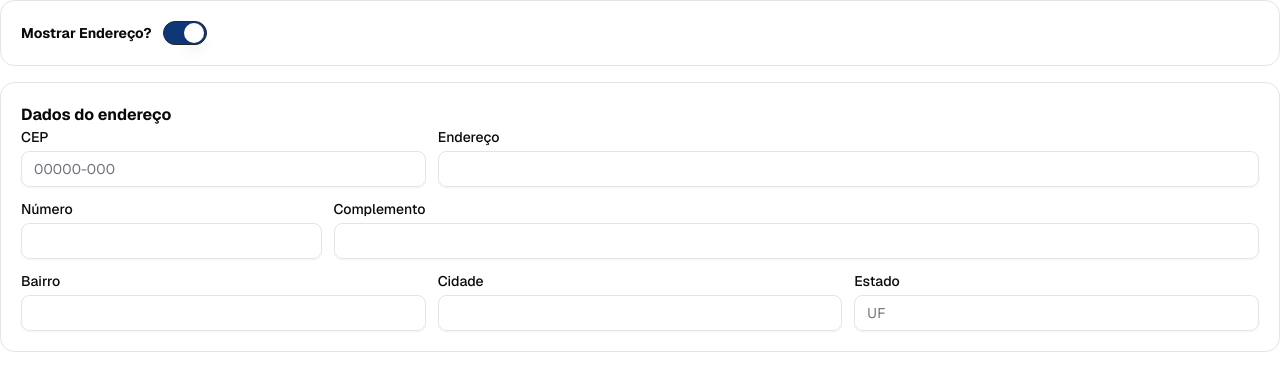
Test case: EnderecoSection › CEP masking branch coverage › strips non-numeric characters from CEP input
Type "ABC123" into the field labelled "CEP" at (223, 169), box [21, 151, 426, 187]
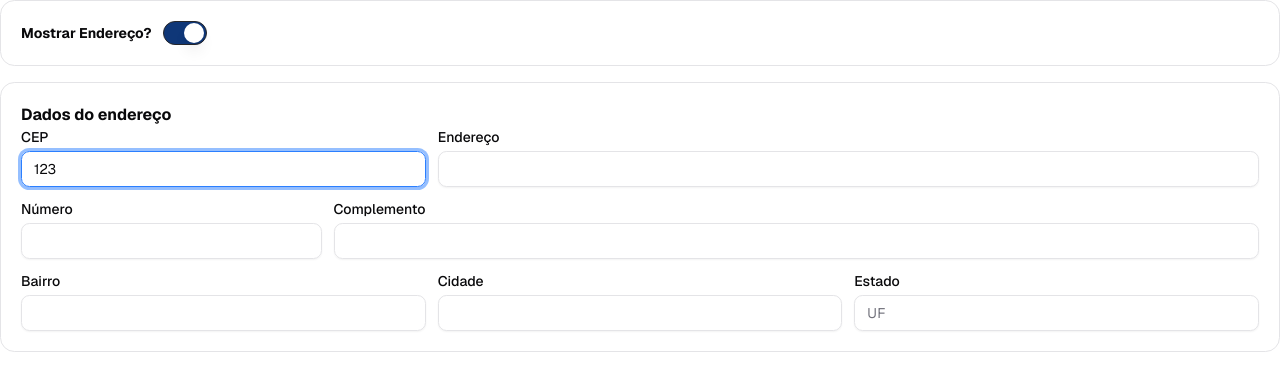
Result: the field labelled "CEP" holds "123" at [21, 151, 426, 187]
